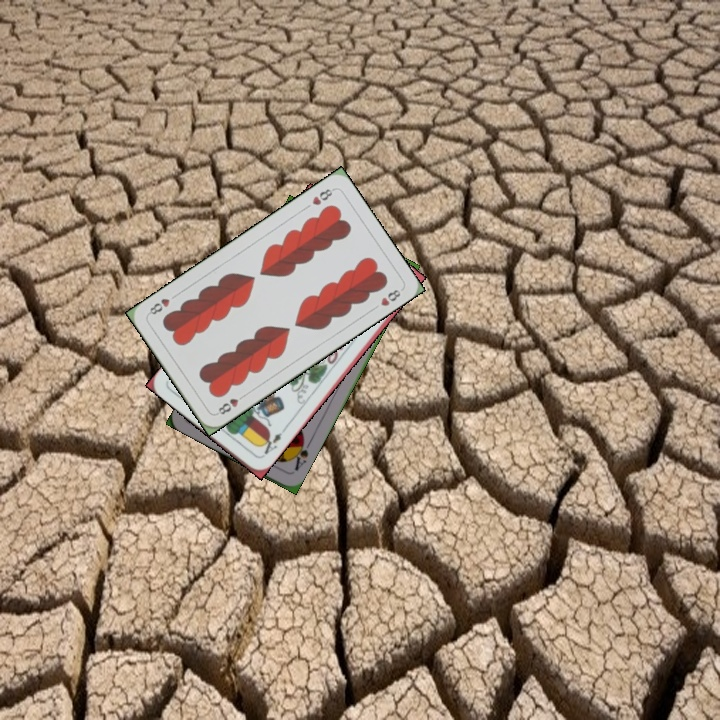EA: (257, 425, 288, 460)
H8: (212, 390, 248, 417), (308, 184, 337, 208)
SA: (287, 434, 313, 473)
